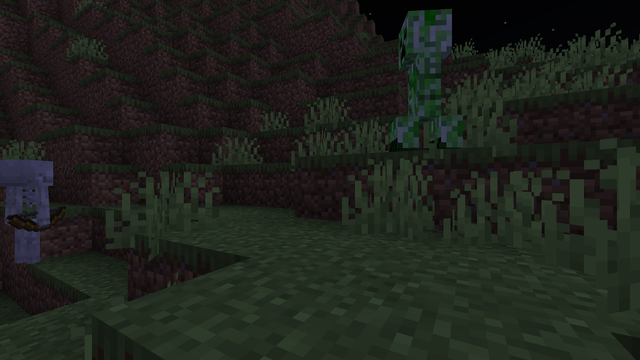creepers: (393, 1, 450, 152)
squelettes: (1, 159, 53, 269)
